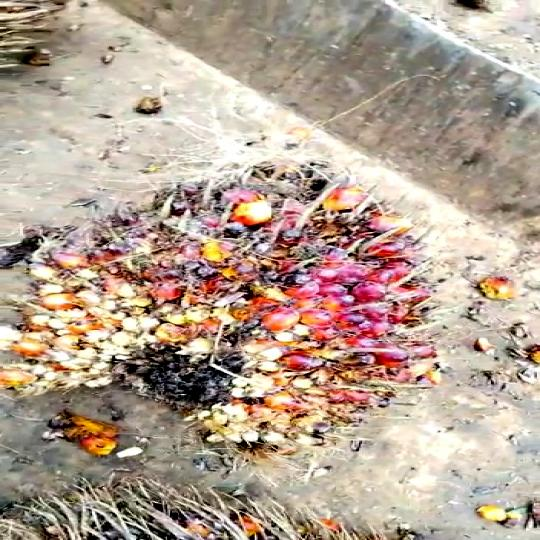masak: (0, 153, 449, 486)
